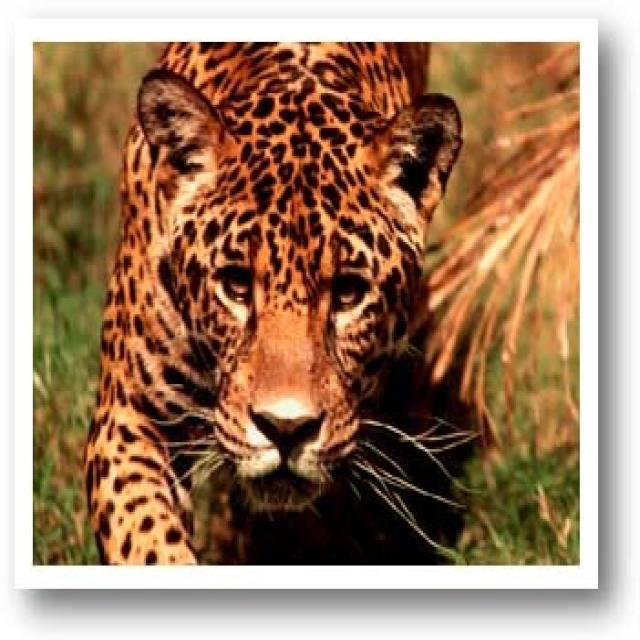Leopard: (84, 37, 461, 561)
